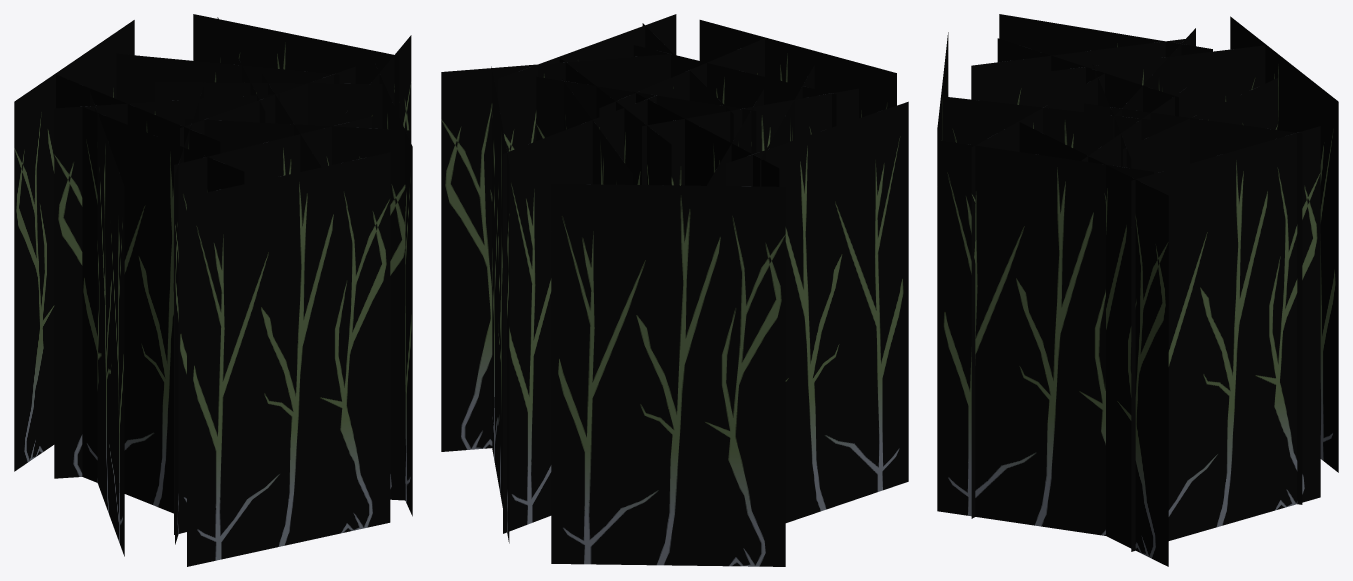
The model's file is space_grass.fbx.
3 renders of one model, left to right at view 1: azimuth 30°, elevation 25°; view 2: azimuth 150°, elevation 25°; view 3: azimuth 270°, elevation 25°, orthographic. The views are drawn at different scales.
Visible parts, largest first — view 1: Cube_4; view 2: Cube_4; view 3: Cube_4.
Boxes of the visible parts, left/top/right/bottom form: Cube_4: left=14, top=14, right=412, bottom=566; Cube_4: left=441, top=14, right=908, bottom=566; Cube_4: left=937, top=14, right=1338, bottom=566.
Bounding box in the file's own units: 60.45 × 57.64 × 56.45.
Materials: 1 (1 with a texture image).
